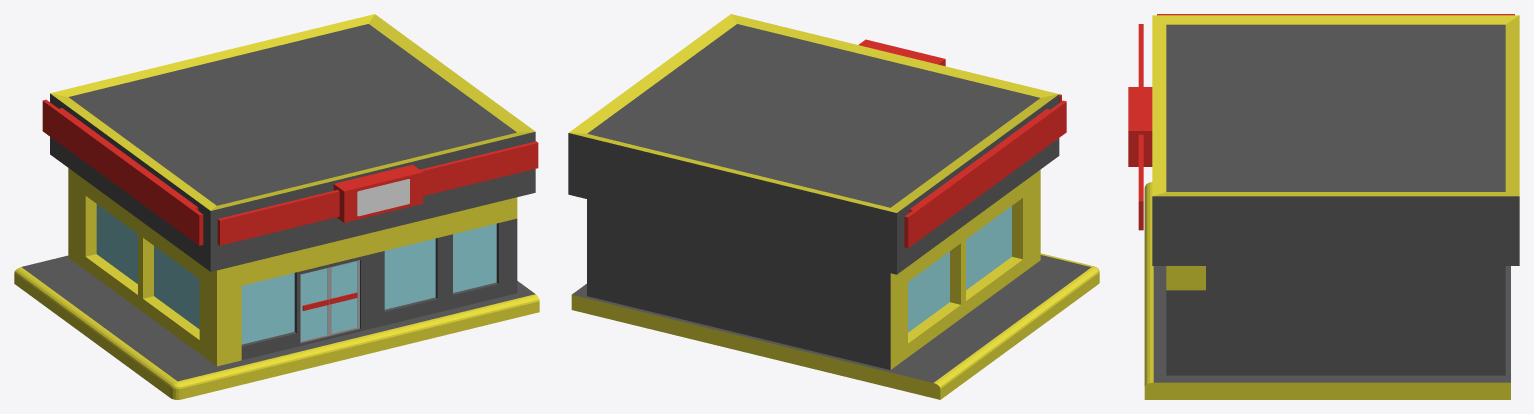
File: OXXO.fbx
3 renders of one model, left to right at view 1: azimuth 30°, elevation 25°; view 2: azimuth 150°, elevation 25°; view 3: azimuth 270°, elevation 25°, orthographic. The views are drawn at different scales.
Visible parts, largest first — view 1: Cube, Cube.005, Cube.002, Cube.006, Cube.001; view 2: Cube, Cube.005, Cube.006, Cube.001, Cube.002; view 3: Cube, Cube.005, Cube.006, Cube.002, Cube.001.
Boxes of the visible parts, <box> form: Cube: <box>50,14,535,366</box>; Cube.005: <box>14,267,539,399</box>; Cube.002: <box>217,141,538,245</box>; Cube.006: <box>22,255,535,381</box>; Cube.001: <box>42,99,203,245</box>; Cube: <box>568,14,1059,369</box>; Cube.005: <box>571,253,1099,399</box>; Cube.006: <box>572,255,1091,382</box>; Cube.001: <box>904,100,1066,248</box>; Cube.002: <box>858,39,1061,102</box>; Cube: <box>1152,15,1519,375</box>; Cube.005: <box>1144,182,1510,399</box>; Cube.006: <box>1153,266,1510,382</box>; Cube.002: <box>1128,24,1152,230</box>; Cube.001: <box>1157,14,1514,15</box>.
Size of the model in its own units: 2879 by 1343 by 2340.
